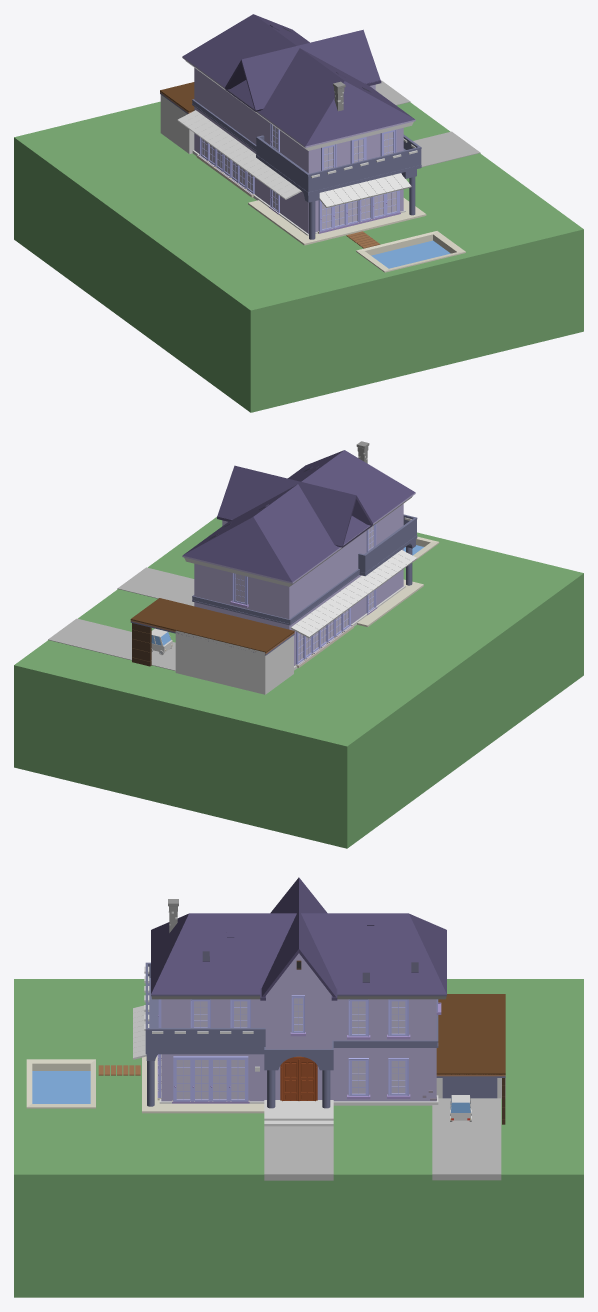
Rendered from purpleHouse.fbx.
3 views of the same model, one above another, from view 1: azimuth 30°, elevation 25°; view 2: azimuth 150°, elevation 25°; view 3: azimuth 270°, elevation 25° (orthographic). The views are drawn at different scales.
Parts seen in each view (by area): view 1: Cube.028, Cube.001, Cube.005, Cube.003, Cube.010, Cube.013, Cube.040, 16688_36x96_French_Mullion_Door-Oak_V1.007, Cube.025, Cube.044, Cube.036, 16688_36x96_French_Mullion_Door-Oak_V1.013 (+4 smaller); view 2: Cube.028, Cube.001, Cube.030, Cube.005, Cube.041, Cube.003, Cube.013, Cube.037, Cube.036, Cube.010, 16688_36x96_French_Mullion_Door-Oak_V1.013, Cube (+3 smaller); view 3: Cube.028, Cube.001, Cube.003, Cube.041, Cube.037, Cube.006, Cube.036, Cube.010, 16688_36x96_French_Mullion_Door-Oak_V1.008, Cube.040, Cube.005, Cube.002 (+19 smaller).
Part boxes in pixels (left/top/right/bottom): Cube.028: left=14, top=101, right=583, bottom=412; Cube.001: left=182, top=14, right=415, bottom=233; Cube.005: left=225, top=29, right=380, bottom=111; Cube.003: left=205, top=76, right=296, bottom=224; Cube.010: left=256, top=134, right=421, bottom=195; Cube.013: left=177, top=110, right=301, bottom=199; Cube.040: left=356, top=231, right=465, bottom=272; 16688_36x96_French_Mullion_Door-Oak_V1.007: left=317, top=190, right=400, bottom=233; Cube.025: left=248, top=198, right=426, bottom=245; Cube.044: left=319, top=173, right=411, bottom=207; Cube.036: left=413, top=131, right=480, bottom=167; 16688_36x96_French_Mullion_Door-Oak_V1.013: left=196, top=137, right=255, bottom=197; Cube.028: left=14, top=517, right=583, bottom=848; Cube.001: left=182, top=450, right=415, bottom=665; Cube.030: left=175, top=630, right=293, bottom=694; Cube.005: left=217, top=465, right=372, bottom=547; Cube.041: left=130, top=598, right=294, bottom=652; Cube.003: left=301, top=512, right=392, bottom=658; Cube.013: left=291, top=550, right=416, bottom=637; Cube.037: left=48, top=618, right=175, bottom=670; Cube.036: left=117, top=567, right=194, bottom=606; Cube.010: left=358, top=514, right=417, bottom=576; 16688_36x96_French_Mullion_Door-Oak_V1.013: left=295, top=608, right=353, bottom=667; Cube: left=192, top=569, right=359, bottom=625; Cube.028: left=14, top=979, right=583, bottom=1297; Cube.001: left=151, top=913, right=446, bottom=1101; Cube.003: left=189, top=999, right=408, bottom=1101; Cube.041: left=436, top=994, right=505, bottom=1074; Cube.037: left=432, top=1098, right=501, bottom=1180; Cube.006: left=265, top=953, right=332, bottom=1049; Cube.036: left=264, top=1126, right=333, bottom=1180; Cube.010: left=145, top=962, right=265, bottom=1054; 16688_36x96_French_Mullion_Door-Oak_V1.008: left=172, top=1056, right=249, bottom=1103; Cube.040: left=26, top=1059, right=95, bottom=1108; Cube.005: left=261, top=877, right=336, bottom=997; Cube.002: left=189, top=999, right=408, bottom=1101.
Size of the model in its own units: 1341 by 931 by 1648.
